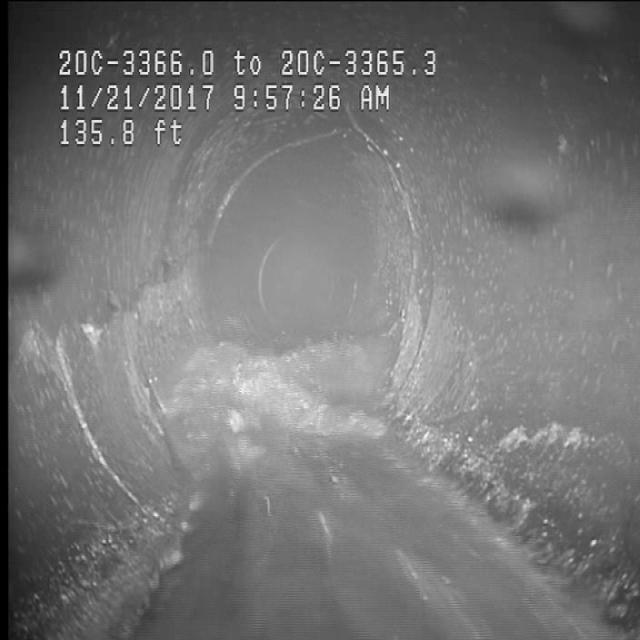Crack: (36, 265, 186, 526)
